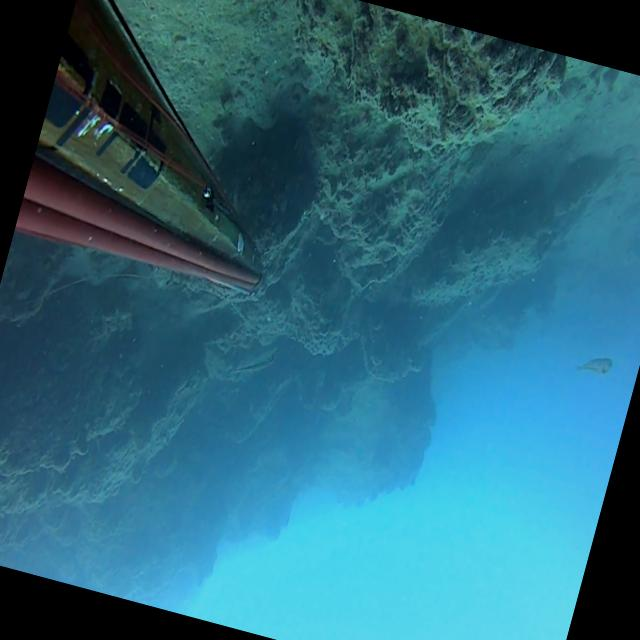Balon Baligi: (225, 334, 277, 382), (575, 350, 613, 378)
